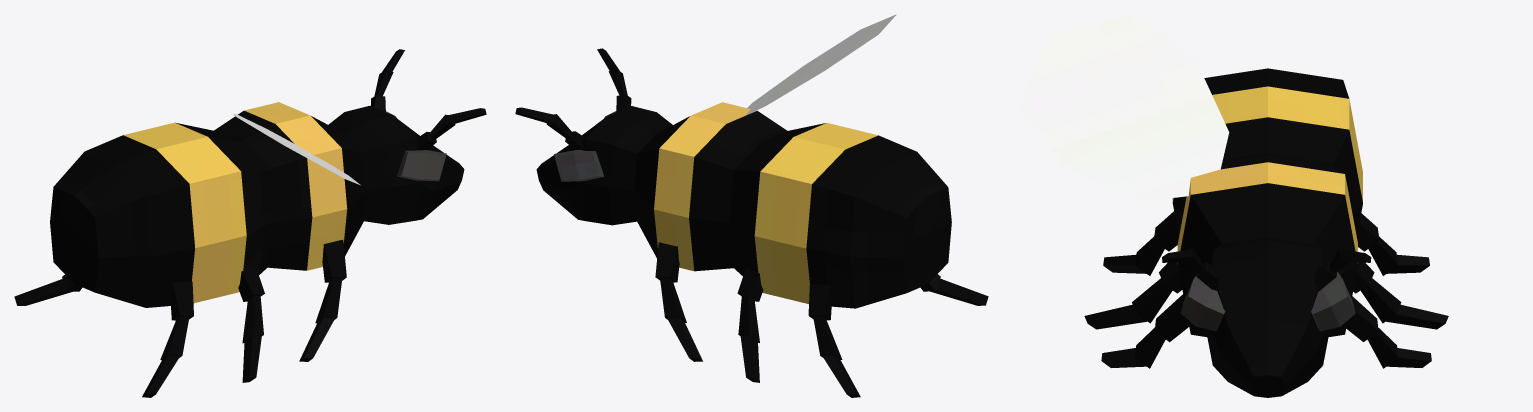
Rendered from dc4e6b52-d55a-4892-ac3e-cbb24e3e97ce.glb.
The picture shows the model from 3 angles, left to right: view 1: azimuth 30°, elevation 25°; view 2: azimuth 150°, elevation 25°; view 3: azimuth 270°, elevation 25°; orthographic projection. The views are drawn at different scales.
Visible parts, largest first — view 1: Cube.001_Cube.017; view 2: Cube.001_Cube.017; view 3: Cube.001_Cube.017.
Part boxes in pixels (x1,y1,x2,y2): Cube.001_Cube.017: (14,49,486,397); Cube.001_Cube.017: (515,14,988,397); Cube.001_Cube.017: (1017,14,1448,397).
Size of the model in its own units: 0.7608 by 0.4845 by 0.7008.
Materials: 1 (1 with a texture image).
